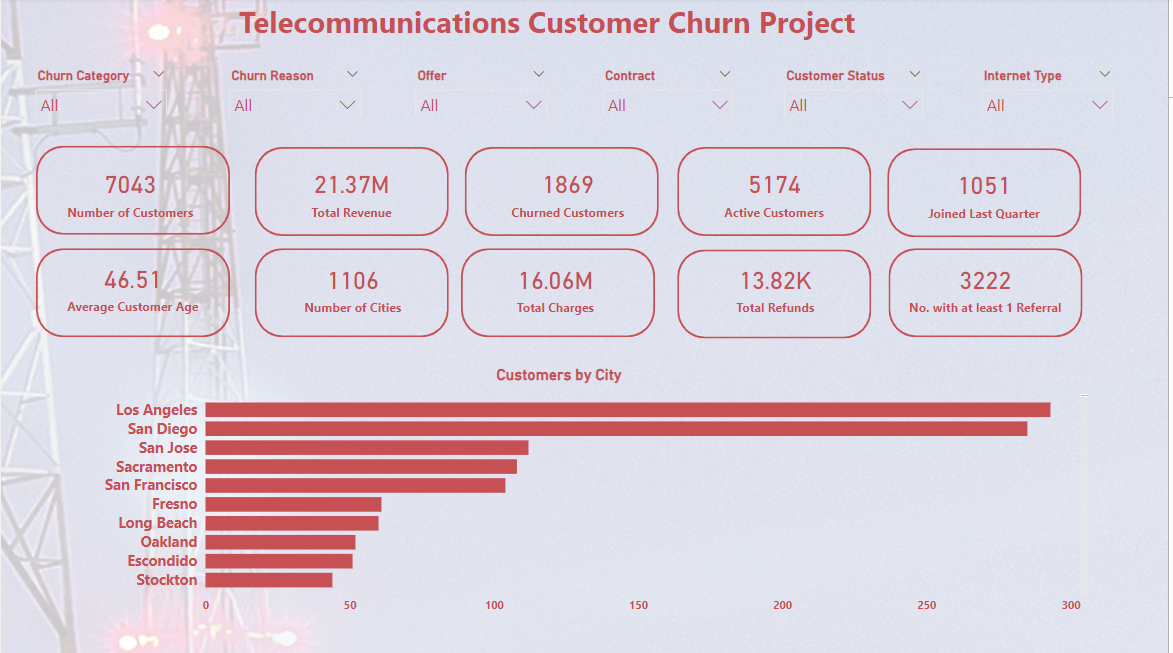

This screenshot's page, from the dashboard's own definition file:
{"tool":"powerbi","page":{"name":"Page 1","canvas":[1280,720],"ordinal":0},"visuals":[{"type":"shape","box":[426.4,61.7,200.2,82.3],"z":0},{"type":"shape","box":[38.4,163.2,212.5,97.3],"z":1000},{"type":"card","fields":{"Values":["Count(Churn_table.Customer_ID)"]},"box":[46.6,179.6,190.6,67.2],"z":2000},{"type":"shape","box":[508.7,164.5,212.5,97.3],"z":3000},{"type":"shape","box":[219.4,61.7,200.2,82.3],"z":4000},{"type":"shape","box":[972.1,165.9,212.5,97.3],"z":5000},{"type":"card","fields":{"Values":["Count(Churn_table.Customer_ID)"]},"box":[526.5,179.6,190.6,67.2],"z":6000},{"type":"shape","box":[741.7,164.5,212.5,97.3],"z":7000},{"type":"card","fields":{"Values":["Count(Churn_table.Customer_ID)"]},"box":[752.7,179.6,190.6,67.2],"z":8000},{"type":"card","fields":{"Values":["Count(Churn_table.Customer_ID)"]},"box":[983,181,190.6,67.2],"z":9000},{"type":"slicer","fields":{"Values":["Churn_table.Churn_Reason"]},"box":[239.9,72.7,164.5,60.3],"z":10000},{"type":"shape","box":[835,61.7,200.2,82.3],"z":11000},{"type":"shape","box":[278.3,164.5,212.5,97.3],"z":12000},{"type":"shape","box":[632.1,61.7,200.2,82.3],"z":13000},{"type":"card","fields":{"Values":["Sum(Churn_table.Total_Revenue)"]},"box":[289.3,179.6,190.6,67.2],"z":14000},{"type":"slicer","fields":{"Values":["Churn_table.Contract"]},"box":[649.9,72.7,163.2,60.3],"z":15000},{"type":"shape","box":[1047.5,61.7,200.2,82.3],"z":16000},{"type":"slicer","fields":{"Values":["Churn_table.Internet_Type"]},"box":[1065.3,72.7,164.5,60.3],"z":17000},{"type":"shape","box":[9.6,383.9,1238.1,315.3],"z":18000},{"type":"slicer","fields":{"Values":["Churn_table.Customer_Status"]},"box":[848.7,72.7,172.8,60.3],"z":19000},{"type":"shape","box":[9.6,61.7,200.2,82.3],"z":20000},{"type":"slicer","fields":{"Values":["Churn_table.Churn_Category"]},"box":[27.4,72.7,164.5,60.3],"z":21000},{"type":"barChart","title":"Customers by City","fields":{"Y":["CountNonNull(Churn_table.Customer_ID)"],"Category":["Churn_table.City"]},"box":[27.4,404.5,1169.5,281.1],"z":22000},{"type":"shape","box":[38.4,275.6,212.5,97.3],"z":23000},{"type":"card","fields":{"Values":["Avg(Churn_table.Age)"]},"box":[49.4,275.6,190.6,83.6],"z":24000},{"type":"shape","box":[278.3,275.6,212.5,97.3],"z":25000},{"type":"card","fields":{"Values":["Count(Churn_table.City)"]},"box":[290.7,277,190.6,83.6],"z":26000},{"type":"slicer","fields":{"Values":["Churn_table.Offer"]},"box":[444.2,72.7,164.5,60.3],"z":27000},{"type":"shape","box":[504.5,275.6,212.5,97.3],"z":28000},{"type":"card","fields":{"Values":["Sum(Churn_table.Total_Charges)"]},"box":[512.8,277,190.6,83.6],"z":29000},{"type":"shape","box":[741.7,277,212.5,97.3],"z":30000},{"type":"card","fields":{"Values":["Sum(Churn_table.Total_Refunds)"]},"box":[754.1,277,190.6,83.6],"z":31000},{"type":"shape","box":[973.4,275.6,212.5,97.3],"z":32000},{"type":"card","fields":{"Values":["CountNonNull(Churn_table.Number_of_Referrals)"]},"box":[984.4,277,190.6,83.6],"z":33000},{"type":"textbox","box":[100.1,0,998.1,72.7],"z":33001}]}

Visuals, with their boxes in screenshot pixels (x1, y1, x2, y2), scaled from the page's 1280x720 canvas onto the 1173x653 screenshot:
shape: <bbox>391, 56, 574, 131</bbox>
shape: <bbox>35, 148, 230, 236</bbox>
card - Count(Churn_table.Customer_ID): <bbox>43, 163, 217, 224</bbox>
shape: <bbox>466, 149, 661, 237</bbox>
shape: <bbox>201, 56, 385, 131</bbox>
shape: <bbox>891, 150, 1086, 239</bbox>
card - Count(Churn_table.Customer_ID): <bbox>482, 163, 657, 224</bbox>
shape: <bbox>680, 149, 874, 237</bbox>
card - Count(Churn_table.Customer_ID): <bbox>690, 163, 864, 224</bbox>
card - Count(Churn_table.Customer_ID): <bbox>901, 164, 1075, 225</bbox>
slicer - Churn_table.Churn_Reason: <bbox>220, 66, 371, 121</bbox>
shape: <bbox>765, 56, 949, 131</bbox>
shape: <bbox>255, 149, 450, 237</bbox>
shape: <bbox>579, 56, 763, 131</bbox>
card - Sum(Churn_table.Total_Revenue): <bbox>265, 163, 440, 224</bbox>
slicer - Churn_table.Contract: <bbox>596, 66, 745, 121</bbox>
shape: <bbox>960, 56, 1143, 131</bbox>
slicer - Churn_table.Internet_Type: <bbox>976, 66, 1127, 121</bbox>
shape: <bbox>9, 348, 1143, 634</bbox>
slicer - Churn_table.Customer_Status: <bbox>778, 66, 936, 121</bbox>
shape: <bbox>9, 56, 192, 131</bbox>
slicer - Churn_table.Churn_Category: <bbox>25, 66, 176, 121</bbox>
"Customers by City" barChart: <bbox>25, 367, 1097, 622</bbox>
shape: <bbox>35, 250, 230, 338</bbox>
card - Avg(Churn_table.Age): <bbox>45, 250, 220, 326</bbox>
shape: <bbox>255, 250, 450, 338</bbox>
card - Count(Churn_table.City): <bbox>266, 251, 441, 327</bbox>
slicer - Churn_table.Offer: <bbox>407, 66, 558, 121</bbox>
shape: <bbox>462, 250, 657, 338</bbox>
card - Sum(Churn_table.Total_Charges): <bbox>470, 251, 645, 327</bbox>
shape: <bbox>680, 251, 874, 339</bbox>
card - Sum(Churn_table.Total_Refunds): <bbox>691, 251, 866, 327</bbox>
shape: <bbox>892, 250, 1087, 338</bbox>
card - CountNonNull(Churn_table.Number_of_Referrals): <bbox>902, 251, 1077, 327</bbox>
textbox: <bbox>92, 0, 1006, 66</bbox>
